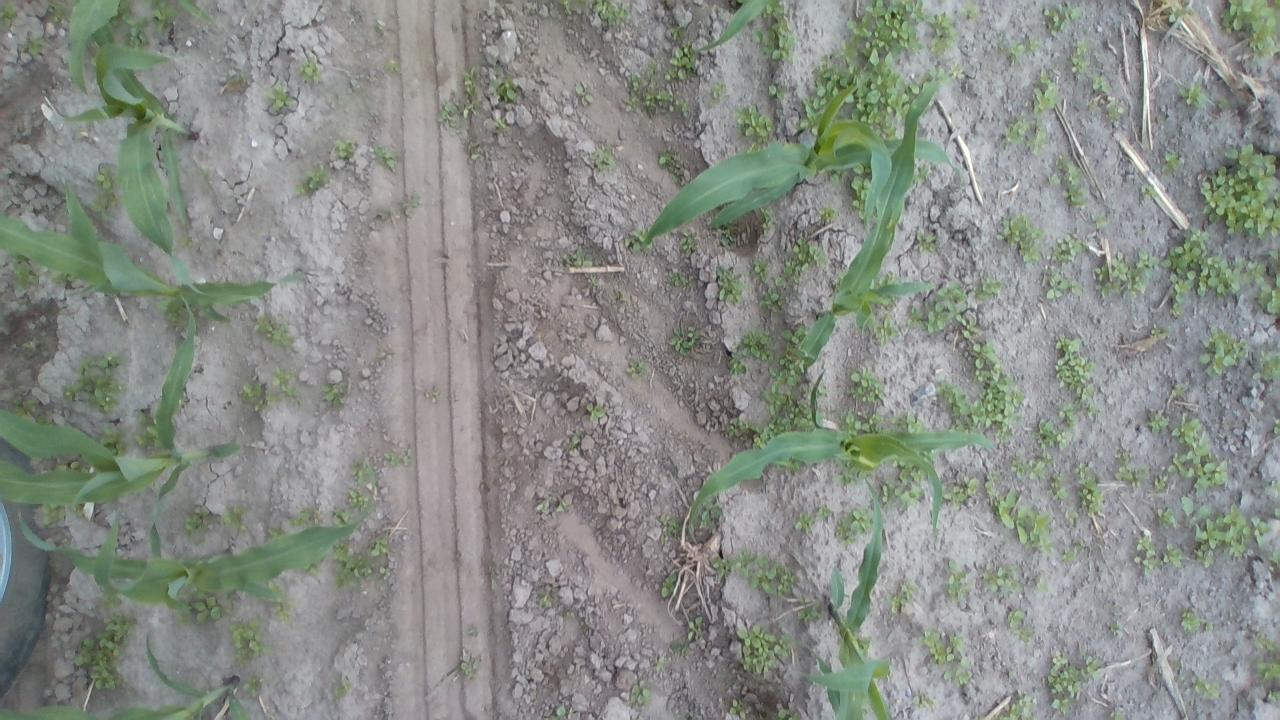Maize: (0, 293, 243, 516), (638, 78, 956, 248), (686, 371, 994, 544), (796, 66, 950, 375), (0, 183, 308, 324), (7, 505, 377, 608), (65, 29, 205, 260), (801, 477, 894, 720), (0, 635, 252, 720), (68, 0, 123, 98), (696, 0, 766, 53), (806, 646, 840, 715), (179, 0, 209, 22)
Weeds: (1160, 229, 1268, 320), (795, 50, 909, 136), (948, 312, 1022, 438), (1198, 142, 1280, 238), (1016, 393, 1096, 478), (1180, 494, 1269, 566), (1170, 411, 1229, 499), (842, 0, 922, 62), (74, 613, 136, 690), (59, 352, 128, 420), (708, 550, 802, 596), (624, 55, 686, 118), (994, 488, 1051, 553), (1220, 0, 1280, 61), (1046, 650, 1100, 716), (734, 622, 794, 680), (1093, 247, 1155, 298), (774, 235, 829, 290), (898, 284, 962, 330), (1000, 208, 1046, 266), (764, 327, 812, 381), (223, 616, 271, 668), (1128, 532, 1183, 576), (755, 0, 794, 62), (1200, 328, 1252, 374), (837, 409, 931, 434), (1068, 461, 1110, 516), (1051, 335, 1094, 387), (1049, 154, 1085, 206), (332, 540, 373, 584), (892, 464, 932, 508), (920, 630, 969, 664), (942, 556, 974, 606), (771, 388, 809, 430), (258, 311, 298, 350), (736, 103, 778, 140), (926, 11, 959, 58), (1001, 122, 1049, 154), (979, 561, 1024, 595), (834, 508, 871, 548), (292, 160, 332, 196), (845, 368, 889, 400), (176, 598, 222, 628), (1114, 451, 1148, 491), (1042, 268, 1082, 301), (940, 472, 976, 508), (1031, 66, 1061, 109), (590, 0, 631, 31), (89, 164, 114, 212), (888, 578, 921, 614), (740, 327, 776, 359), (1005, 36, 1043, 66), (724, 422, 769, 447), (1042, 1, 1076, 34), (1066, 39, 1094, 79), (668, 43, 699, 79), (716, 267, 746, 304), (270, 369, 302, 401), (7, 254, 31, 296), (574, 79, 604, 112), (1046, 235, 1084, 261), (438, 91, 468, 122), (871, 318, 900, 350), (220, 504, 253, 532), (701, 494, 725, 532), (1000, 695, 1036, 720), (668, 326, 698, 356), (1004, 610, 1032, 642), (849, 168, 870, 209), (127, 13, 152, 47), (704, 80, 730, 112), (218, 72, 252, 96), (183, 506, 210, 536), (535, 498, 574, 518), (290, 504, 325, 526), (1176, 82, 1204, 109), (911, 228, 940, 254), (1046, 474, 1068, 507), (626, 227, 654, 252), (1144, 404, 1169, 431), (266, 86, 294, 110), (463, 68, 482, 103), (974, 278, 1004, 300), (625, 686, 655, 708), (1258, 284, 1280, 314), (266, 597, 292, 622), (562, 249, 596, 268), (1260, 352, 1280, 384), (374, 144, 403, 166), (590, 144, 614, 170), (759, 288, 785, 312), (494, 74, 518, 100), (153, 1, 176, 27), (135, 421, 157, 448), (910, 692, 939, 712), (931, 62, 967, 78), (1194, 677, 1220, 699), (12, 392, 34, 418), (1180, 609, 1200, 637), (1166, 3, 1195, 22), (103, 430, 128, 452), (684, 616, 705, 642), (668, 268, 695, 288), (658, 514, 676, 544), (244, 676, 268, 698), (986, 464, 1003, 495), (1250, 636, 1279, 654), (0, 4, 20, 30), (1158, 504, 1178, 530), (38, 505, 64, 525), (1063, 546, 1090, 565), (397, 194, 424, 213), (840, 464, 859, 491), (1032, 574, 1055, 596), (758, 208, 782, 229), (750, 261, 771, 285), (792, 512, 817, 532), (1092, 74, 1112, 99), (20, 36, 46, 55), (1258, 660, 1280, 682), (334, 138, 356, 160), (240, 373, 256, 402), (952, 663, 974, 684), (679, 231, 700, 253), (300, 57, 324, 76), (382, 451, 412, 466), (585, 399, 606, 420), (1106, 618, 1126, 640), (1170, 379, 1190, 400), (728, 699, 748, 720), (252, 396, 278, 412), (332, 512, 358, 528), (662, 574, 676, 603), (564, 425, 583, 446), (1164, 152, 1182, 174), (915, 160, 931, 184), (725, 356, 747, 373), (657, 148, 675, 168), (369, 538, 389, 556), (46, 1, 67, 18), (1139, 182, 1155, 204), (538, 586, 554, 608), (351, 457, 364, 484), (491, 109, 508, 129), (1263, 688, 1280, 708), (775, 707, 801, 720), (321, 385, 342, 401), (345, 492, 369, 506), (796, 610, 818, 625), (652, 654, 670, 672), (769, 82, 787, 100), (267, 520, 287, 536), (559, 0, 587, 11), (625, 363, 643, 380), (459, 660, 478, 676), (422, 390, 441, 406), (610, 288, 628, 304), (881, 298, 901, 312), (1089, 216, 1108, 230), (1152, 475, 1166, 494), (819, 208, 838, 222), (879, 271, 898, 285), (468, 142, 482, 160), (1268, 546, 1280, 566), (335, 679, 347, 699), (376, 20, 392, 35), (554, 702, 572, 715), (582, 274, 601, 286), (961, 4, 977, 18), (664, 24, 682, 36), (1110, 708, 1126, 720), (385, 56, 399, 68), (670, 644, 686, 654), (1149, 324, 1160, 332)
